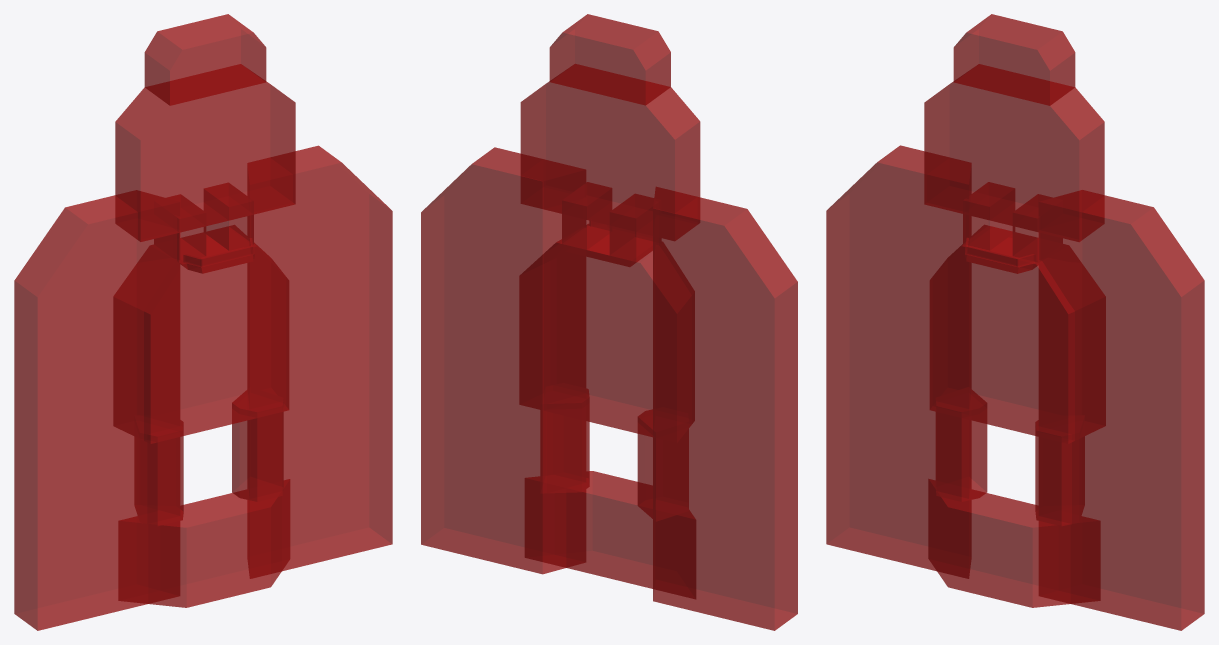
File: SM_Env_Dwarf_Gate_01_Collision.fbx
3 renders of one model, left to right at view 1: azimuth 30°, elevation 25°; view 2: azimuth 150°, elevation 25°; view 3: azimuth 330°, elevation 25°, orthographic.
Parts seen in each view (by area): view 1: SM_Env_Dwarf_Gate_01_Collision; view 2: SM_Env_Dwarf_Gate_01_Collision; view 3: SM_Env_Dwarf_Gate_01_Collision.
Part boxes in pixels (x1,y1,x2,y2): SM_Env_Dwarf_Gate_01_Collision: (14, 14, 392, 630); SM_Env_Dwarf_Gate_01_Collision: (421, 14, 797, 630); SM_Env_Dwarf_Gate_01_Collision: (826, 14, 1204, 630).
Size of the model in its own units: 4211 by 6216 by 757.
